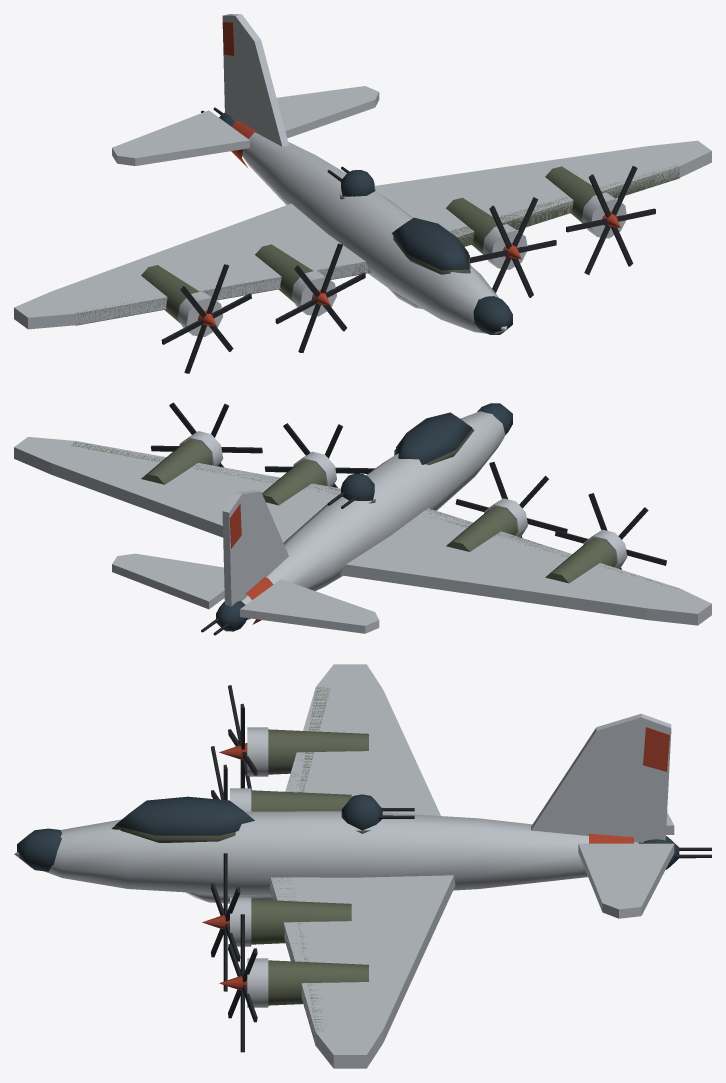
The model's file is bomber.glb.
3 views of the same model, one above another, from view 1: azimuth 30°, elevation 25°; view 2: azimuth 150°, elevation 25°; view 3: azimuth 270°, elevation 25° (orthographic). The views are drawn at different scales.
Parts seen in each view (by area): view 1: wing_left, fuselage, wing_right, vertical_fin, stabilizer_left, stabilizer_right, canopy, wing_strip_right, nacelle_inboard_left, nacelle_outboard_left, nacelle_outboard_right, nose_glazing (+10 smaller); view 2: wing_left, fuselage, wing_right, vertical_fin, stabilizer_left, stabilizer_right, canopy, nacelle_outboard_left, nacelle_inboard_left, nacelle_outboard_right, nacelle_inboard_right, dorsal_turret (+12 smaller); view 3: fuselage, wing_right, wing_left, vertical_fin, stabilizer_right, canopy, nacelle_outboard_right, nacelle_inboard_right, nacelle_outboard_left, nacelle_inboard_left, nose_glazing, dorsal_turret (+5 smaller).
Part boxes in pixels (x1,y1,x2,y2): wing_left: (14, 203, 371, 329); fuselage: (242, 132, 507, 333); wing_right: (374, 140, 711, 244); vertical_fin: (222, 14, 288, 146); stabilizer_left: (112, 110, 249, 165); stabilizer_right: (276, 86, 379, 138); canopy: (391, 217, 468, 270); wing_strip_right: (449, 165, 679, 246); nacelle_inboard_left: (255, 244, 313, 302); nacelle_outboard_left: (141, 265, 199, 322); nacelle_outboard_right: (545, 166, 603, 223); nose_glazing: (473, 296, 512, 334); wing_left: (340, 508, 711, 625); fuselage: (242, 411, 505, 619); wing_right: (14, 437, 340, 542); vertical_fin: (222, 490, 288, 606); stabilizer_left: (240, 579, 379, 633); stabilizer_right: (112, 553, 224, 609); canopy: (395, 412, 472, 464); nacelle_outboard_left: (545, 538, 616, 583); nacelle_inboard_left: (446, 506, 517, 551); nacelle_outboard_right: (141, 439, 212, 484); nacelle_inboard_right: (262, 460, 326, 505); dorsal_turret: (341, 473, 374, 500); fuselage: (14, 811, 638, 895); wing_right: (269, 875, 455, 1068); wing_left: (285, 664, 440, 815); vertical_fin: (531, 713, 671, 842); stabilizer_right: (578, 843, 674, 918); canopy: (115, 796, 254, 835); nacelle_outboard_right: (268, 960, 368, 1005); nacelle_inboard_right: (251, 899, 351, 944); nacelle_outboard_left: (268, 729, 368, 774); nacelle_inboard_left: (251, 790, 351, 811); nose_glazing: (17, 828, 61, 871); dorsal_turret: (341, 794, 382, 830).
Bounding box in the file's own units: 30.8 × 7.76 × 23.25.
